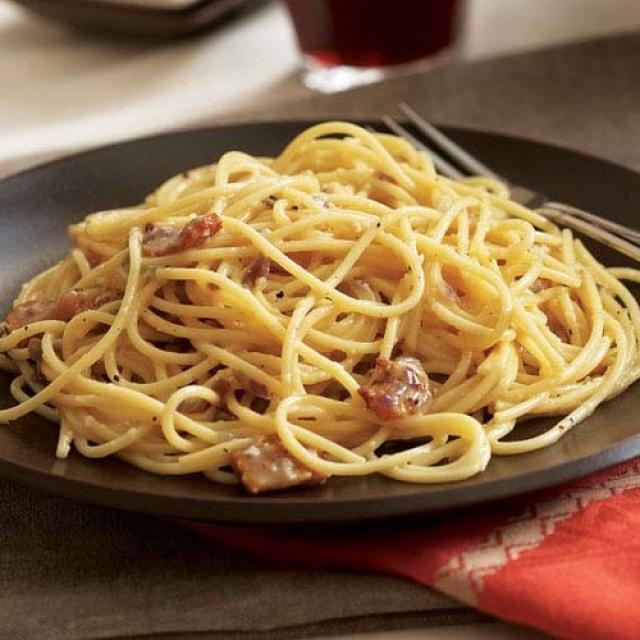Pasta with carbonara sauce: (16, 118, 640, 527)
